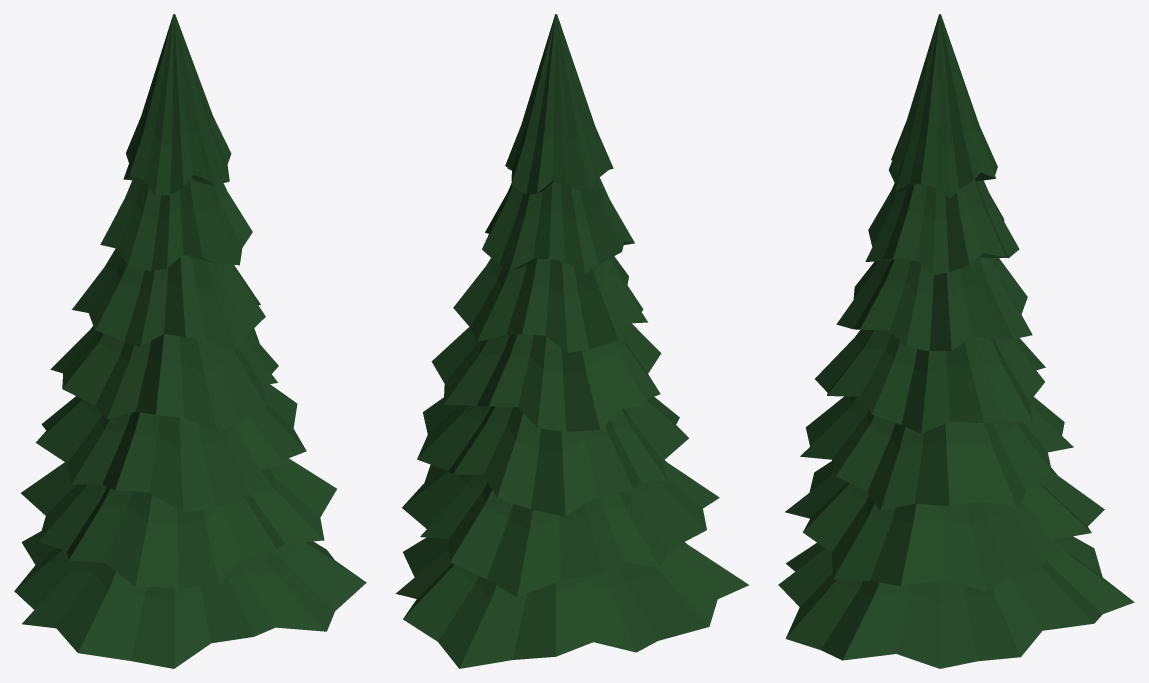
Rendered from AlpinePineNeedles.obj.
3 views of the same model, side by side, from view 1: azimuth 30°, elevation 25°; view 2: azimuth 150°, elevation 25°; view 3: azimuth 270°, elevation 25° (orthographic).
Parts seen in each view (by area): view 1: AlpinePineNeedles; view 2: AlpinePineNeedles; view 3: AlpinePineNeedles.
Boxes of the visible parts, x1=… form: AlpinePineNeedles: x1=14, y1=14, x2=366, y2=668; AlpinePineNeedles: x1=395, y1=14, x2=749, y2=668; AlpinePineNeedles: x1=778, y1=14, x2=1134, y2=668.
Size of the model in its own units: 443 by 812 by 443.
